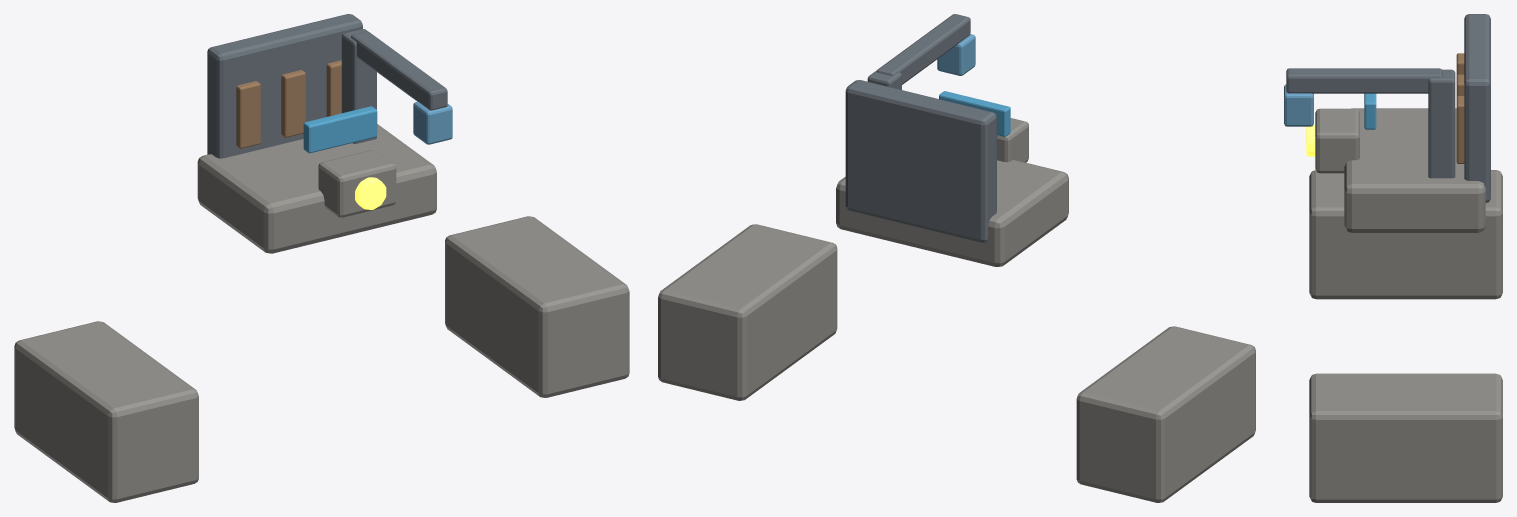
The model's file is hq_hero_engineer.glb.
3 renders of one model, left to right at view 1: azimuth 30°, elevation 25°; view 2: azimuth 150°, elevation 25°; view 3: azimuth 270°, elevation 25°, orthographic. The views are drawn at different scales.
Parts seen in each view (by area): view 1: GEO_Engi_Shoulder_R, GEO_Engi_Shoulder_L, GEO_Engi_Mount, GEO_Engi_Shield, GEO_Engi_EmitterHousing, GEO_Engi_CraneBoom, GEO_Engi_Badge, GEO_Engi_CranePost, GEO_Engi_Tool_0, GEO_Engi_Tool_1, GEO_Engi_CraneHook, GEO_Engi_Tool_2 (+1 smaller); view 2: GEO_Engi_Shoulder_L, GEO_Engi_Shoulder_R, GEO_Engi_Shield, GEO_Engi_Mount, GEO_Engi_CraneBoom, GEO_Engi_EmitterHousing, GEO_Engi_CraneHook, GEO_Engi_Badge; view 3: GEO_Engi_Shoulder_R, GEO_Engi_Shoulder_L, GEO_Engi_Mount, GEO_Engi_Shield, GEO_Engi_CraneBoom, GEO_Engi_CranePost, GEO_Engi_EmitterHousing, GEO_Engi_CraneHook, GEO_Engi_Tool_2, GEO_Engi_Badge, GEO_Engi_EmitterCore.
Boxes of the visible parts, x1,y1,x2,y2 form: GEO_Engi_Shoulder_R: (445, 216, 629, 397); GEO_Engi_Shoulder_L: (14, 321, 198, 502); GEO_Engi_Mount: (197, 124, 436, 253); GEO_Engi_Shield: (207, 14, 362, 158); GEO_Engi_EmitterHousing: (318, 150, 396, 217); GEO_Engi_CraneBoom: (351, 31, 447, 110); GEO_Engi_Badge: (303, 106, 377, 153); GEO_Engi_CranePost: (341, 29, 376, 143); GEO_Engi_Tool_0: (236, 81, 260, 148); GEO_Engi_Tool_1: (281, 70, 305, 137); GEO_Engi_CraneHook: (413, 102, 452, 144); GEO_Engi_Tool_2: (326, 60, 341, 116); GEO_Engi_Shoulder_L: (1076, 326, 1255, 502); GEO_Engi_Shoulder_R: (658, 224, 837, 400); GEO_Engi_Shield: (845, 80, 996, 242); GEO_Engi_Mount: (836, 160, 1068, 266); GEO_Engi_CraneBoom: (877, 14, 970, 84); GEO_Engi_EmitterHousing: (997, 118, 1028, 162); GEO_Engi_CraneHook: (937, 34, 975, 75); GEO_Engi_Badge: (939, 91, 1010, 136); GEO_Engi_Shoulder_R: (1309, 373, 1502, 502); GEO_Engi_Shoulder_L: (1309, 170, 1502, 299); GEO_Engi_Mount: (1344, 108, 1485, 232); GEO_Engi_Shield: (1464, 14, 1490, 202); GEO_Engi_CraneBoom: (1286, 68, 1442, 93); GEO_Engi_CranePost: (1428, 69, 1455, 178); GEO_Engi_EmitterHousing: (1315, 108, 1359, 173); GEO_Engi_CraneHook: (1284, 84, 1313, 126); GEO_Engi_Tool_2: (1456, 96, 1464, 163); GEO_Engi_Badge: (1364, 93, 1376, 129); GEO_Engi_EmitterCore: (1306, 125, 1315, 156).
Size of the model in its own units: 3.92 by 2.5 by 1.47.
